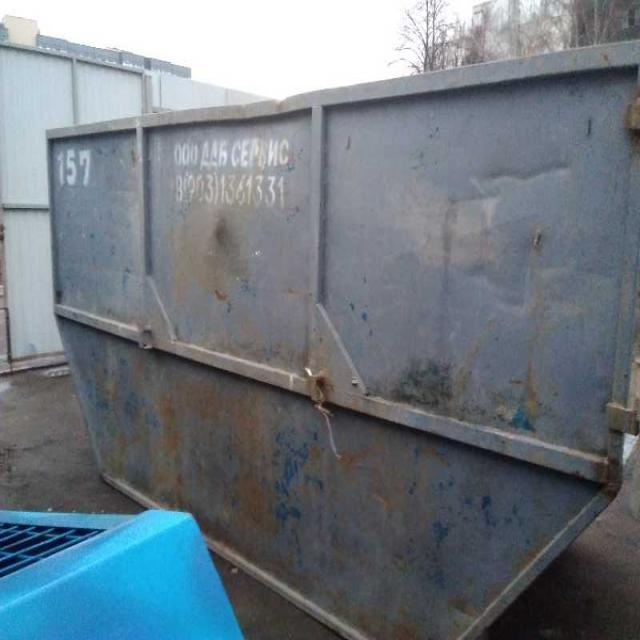Dumpster: (44, 41, 640, 640)
